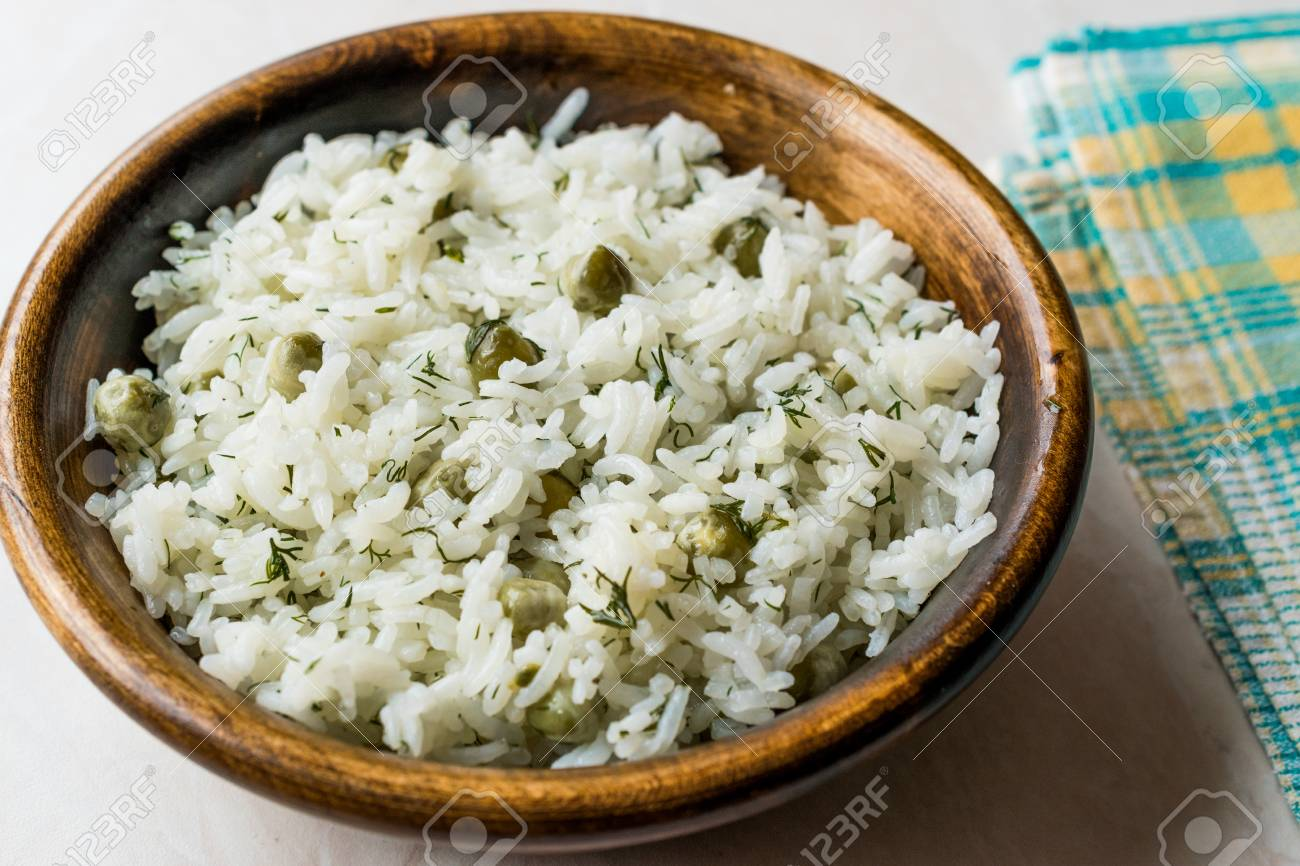boiled peas: (461, 323, 544, 385), (98, 378, 173, 446), (561, 249, 633, 312), (681, 509, 742, 580), (498, 576, 568, 633), (715, 213, 776, 273), (267, 332, 326, 385), (538, 708, 609, 740)
plain rice: (130, 136, 977, 732)
